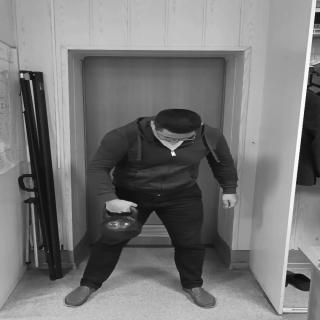girya: (98, 205, 143, 240)
